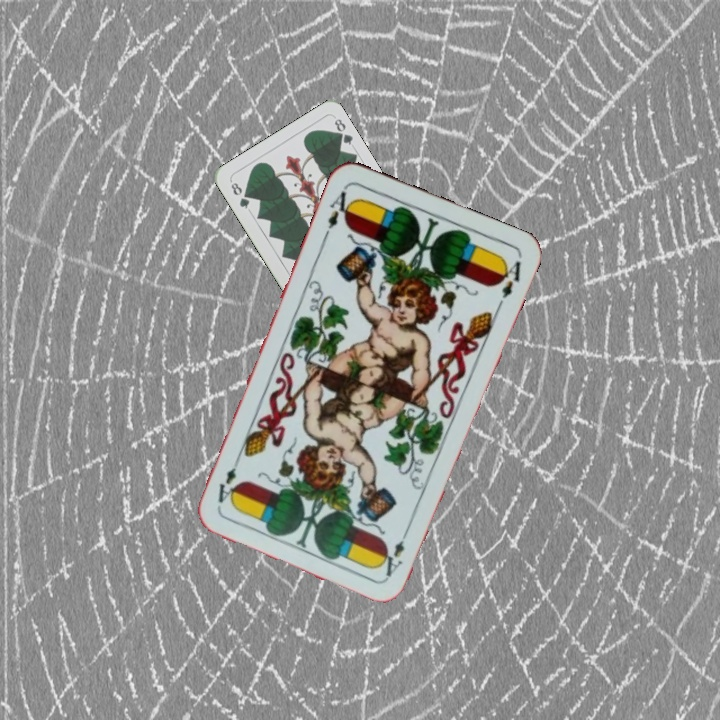EA: (320, 183, 357, 240), (377, 523, 412, 580)
G8: (227, 177, 252, 212)
